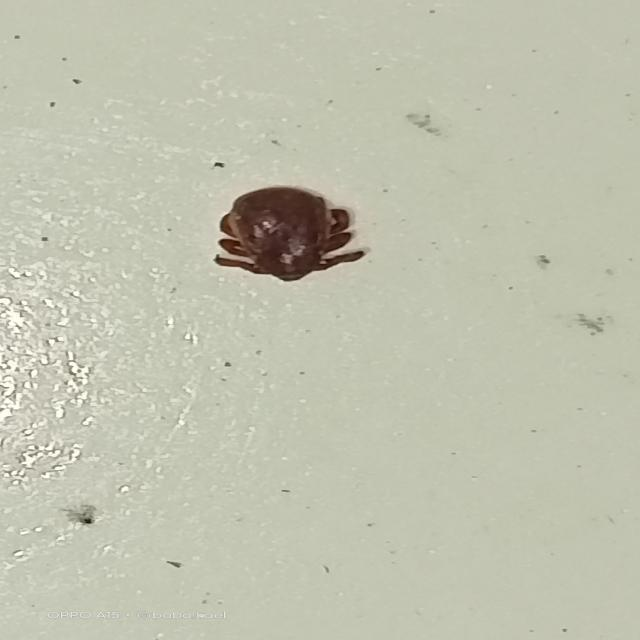Rhipicephalus Sanguineus-M: (214, 187, 368, 284)
